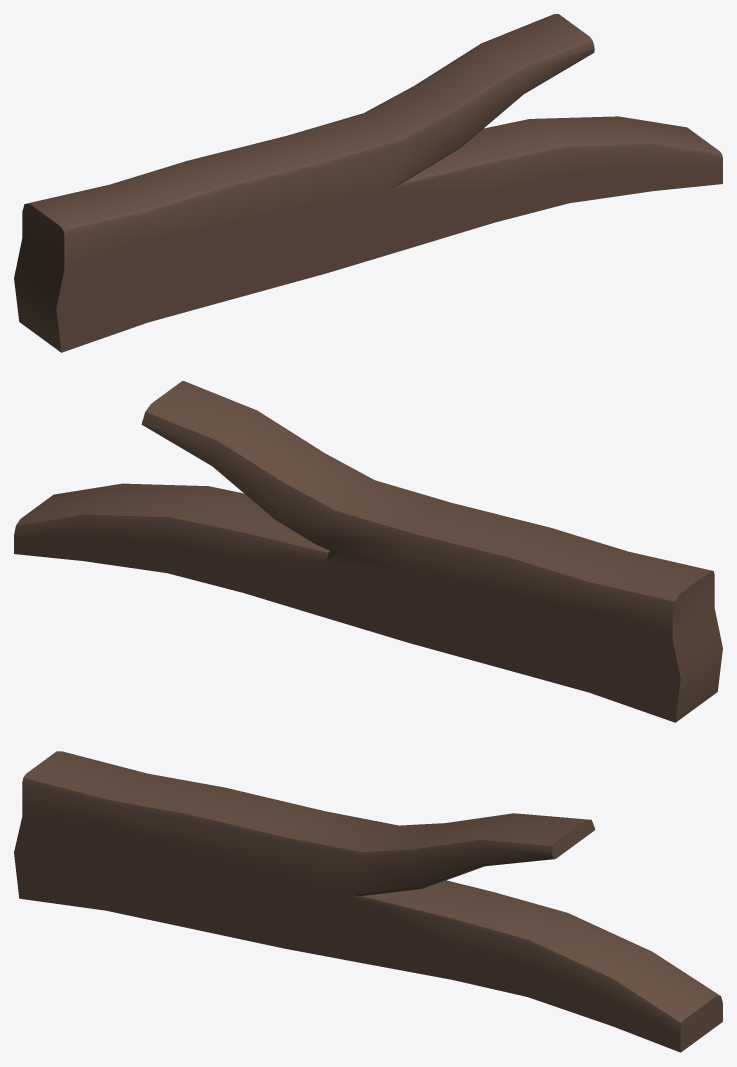
Rendered from tronco.fbx.
3 views of the same model, one above another, from view 1: azimuth 30°, elevation 25°; view 2: azimuth 150°, elevation 25°; view 3: azimuth 330°, elevation 25° (orthographic).
Parts seen in each view (by area): view 1: tronco; view 2: tronco; view 3: tronco.
Boxes of the visible parts, x1,y1,x2,y2 form: tronco: [14, 14, 722, 352]; tronco: [14, 381, 722, 722]; tronco: [14, 751, 722, 1052].
Bounding box in the file's own units: 299 × 78.56 × 32.74.
